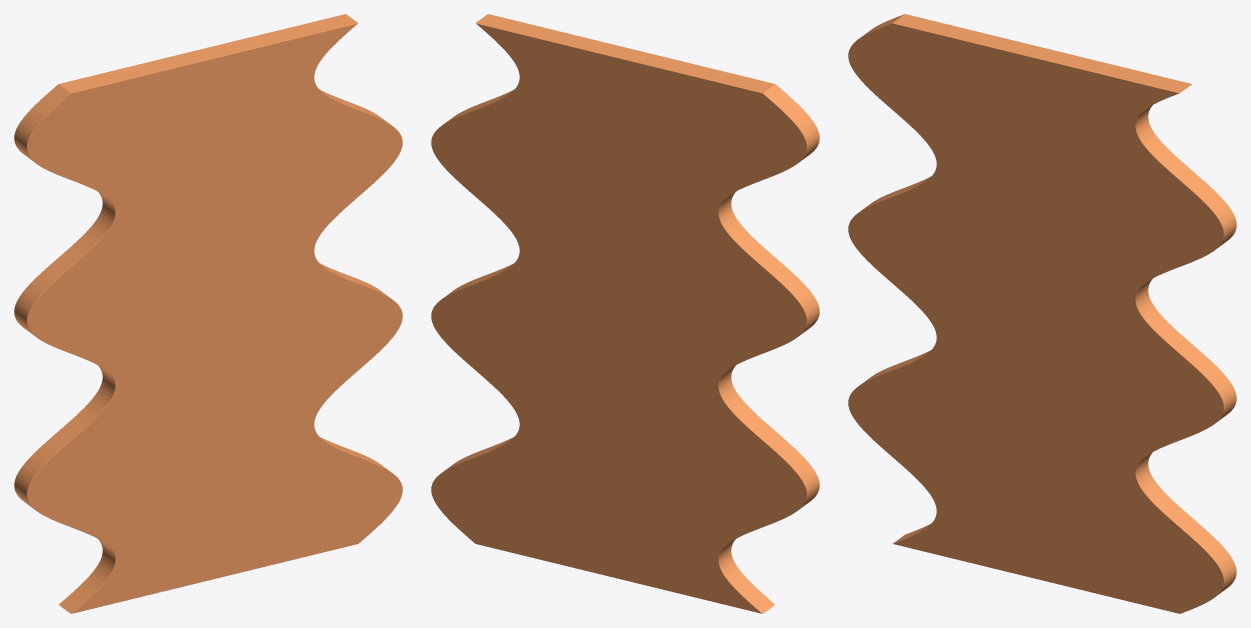
The model's file is wavy_panel.glb.
3 renders of one model, left to right at view 1: azimuth 30°, elevation 25°; view 2: azimuth 150°, elevation 25°; view 3: azimuth 330°, elevation 25°, orthographic.
Visible parts, largest first — view 1: WavyPanel; view 2: WavyPanel; view 3: WavyPanel.
Boxes of the visible parts, x1,y1,x2,y2 form: WavyPanel: (14,14,402,613); WavyPanel: (431,14,819,613); WavyPanel: (848,14,1236,613).
Bounding box in the file's own units: 0.34 × 0.45 × 0.02.
